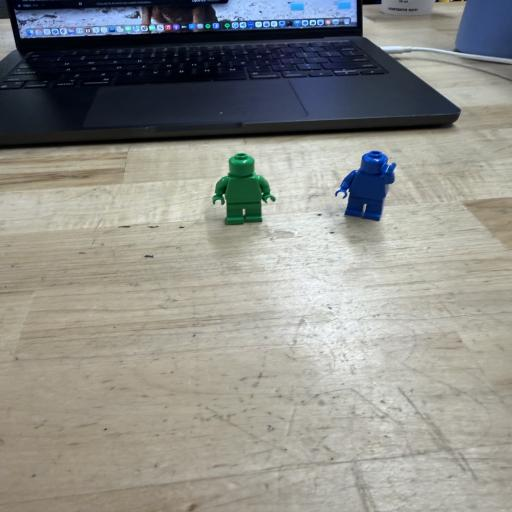blue-minifig: (335, 150, 396, 221)
green-minifig: (212, 153, 275, 225)
